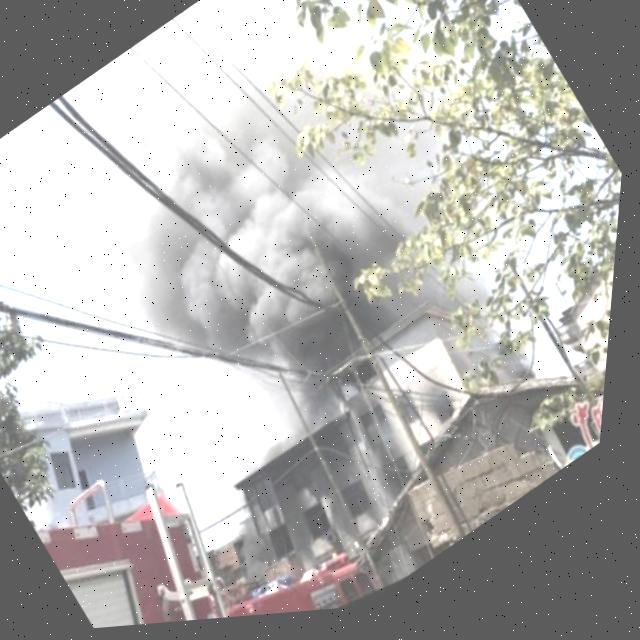Smoke: (163, 194, 378, 416), (160, 63, 357, 271), (69, 139, 249, 322), (49, 23, 228, 200), (141, 0, 340, 146), (300, 138, 442, 284)
